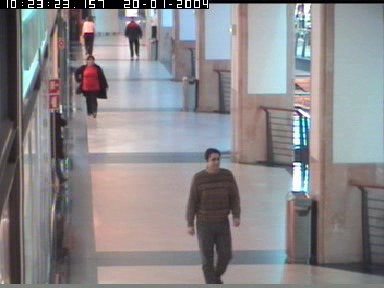person: (186, 148, 241, 283), (77, 54, 107, 116), (51, 100, 67, 186), (79, 16, 97, 56), (124, 18, 141, 58), (148, 9, 159, 39)
